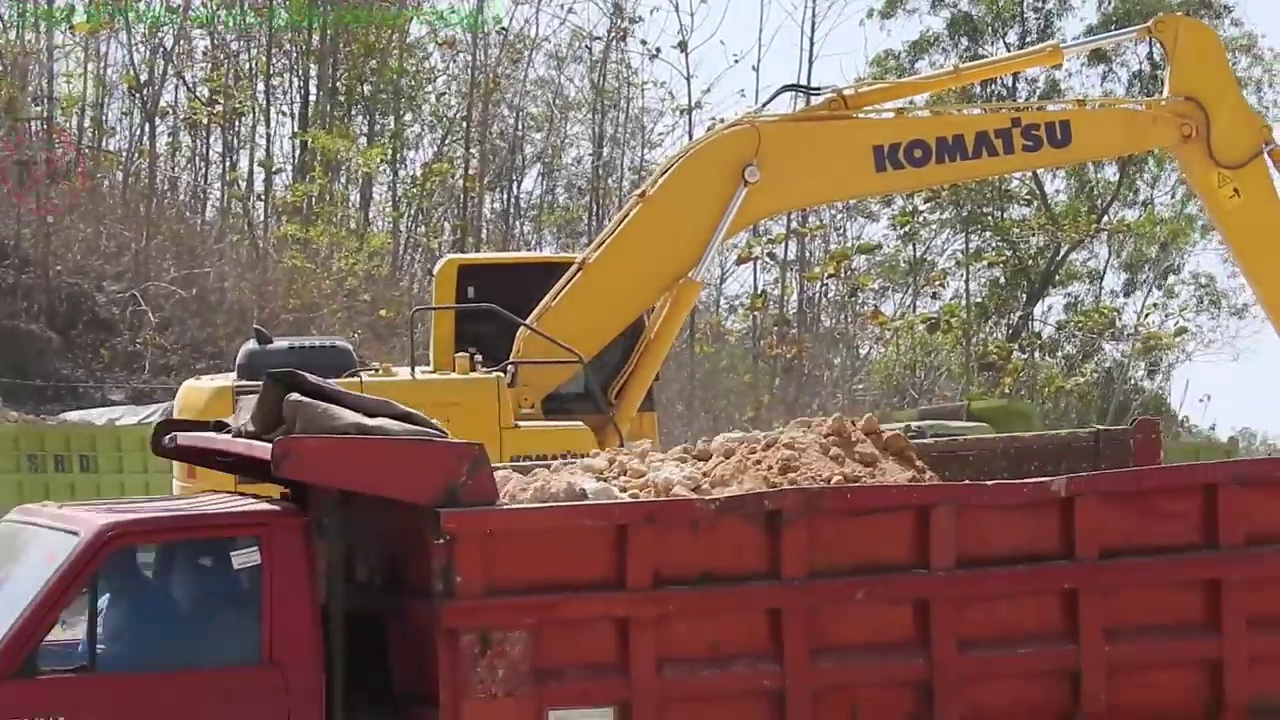excavator: (157, 7, 1280, 669)
truck: (1, 367, 1280, 720), (865, 393, 1247, 576), (1, 400, 224, 595)
